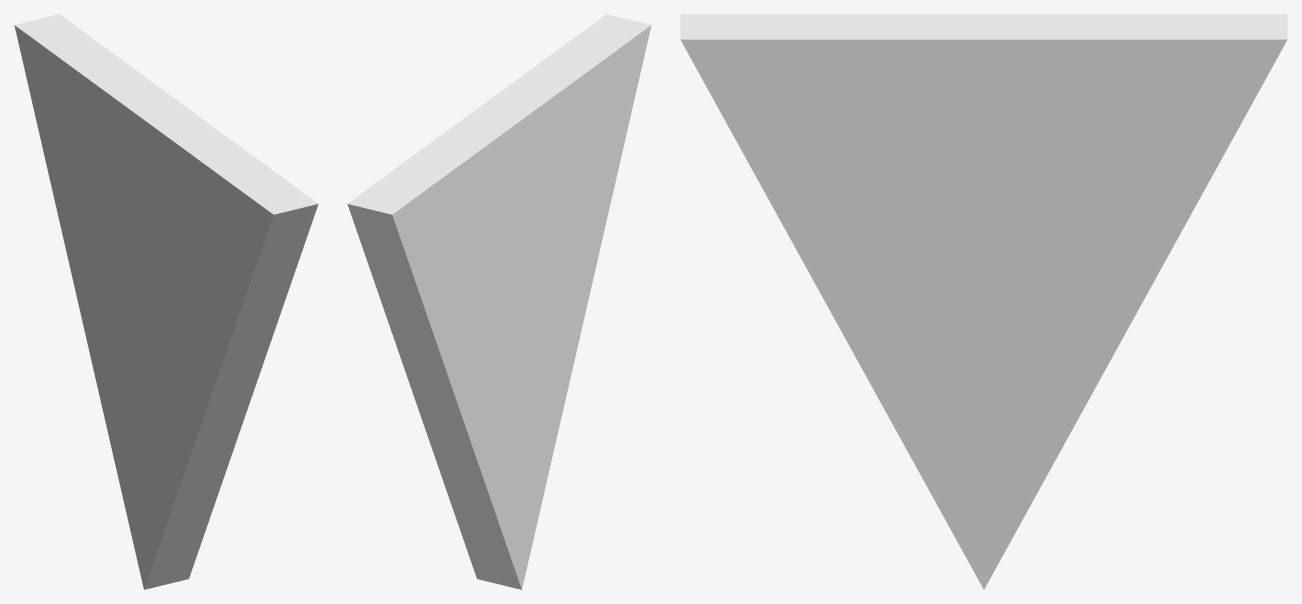
The model's file is l3_flag.dae.
3 renders of one model, left to right at view 1: azimuth 30°, elevation 25°; view 2: azimuth 150°, elevation 25°; view 3: azimuth 270°, elevation 25°, orthographic. The views are drawn at different scales.
Parts seen in each view (by area): view 1: Cube; view 2: Cube; view 3: Cube.
Boxes of the visible parts, x1,y1,x2,y2 form: Cube: (14, 14, 318, 589); Cube: (347, 14, 651, 589); Cube: (680, 14, 1287, 589).
Bounding box in the file's own units: 0.2 × 2 × 2.
1 material, 1 textured.
